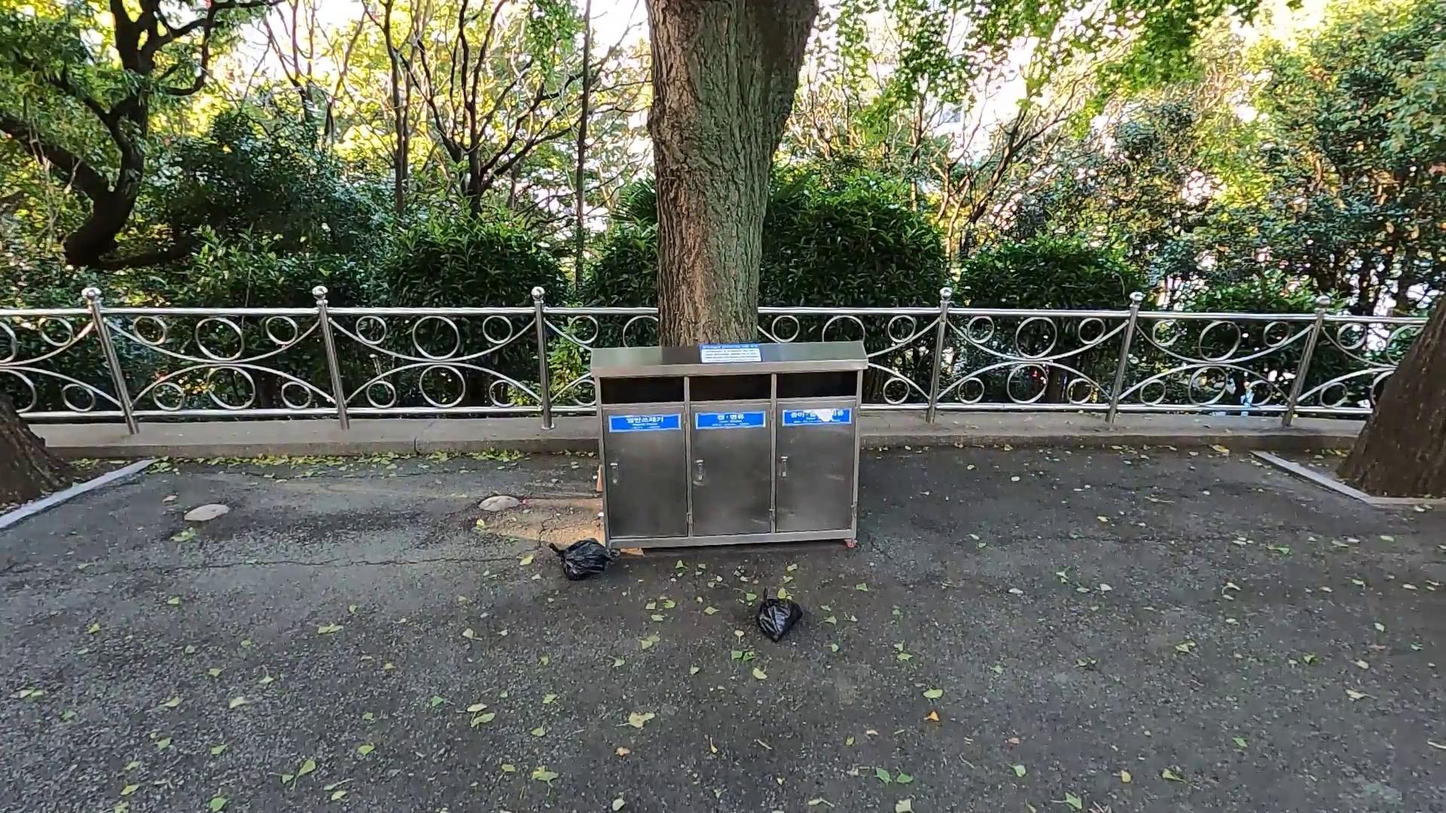trash: (550, 536, 615, 584), (753, 588, 804, 642)
